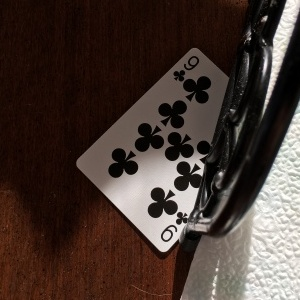card: (74, 46, 225, 254)
